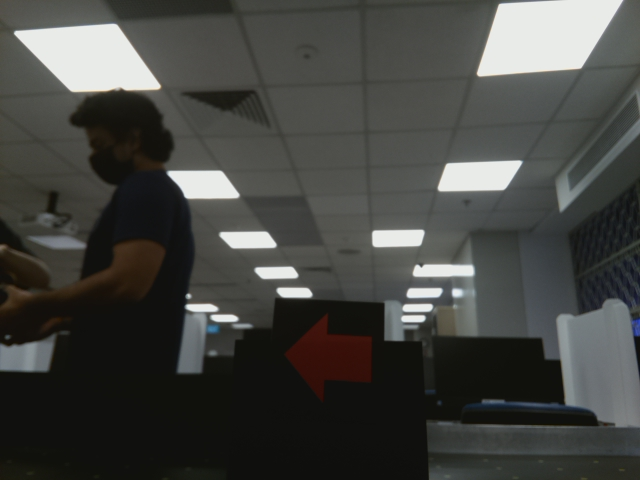left: (281, 310, 381, 402)
